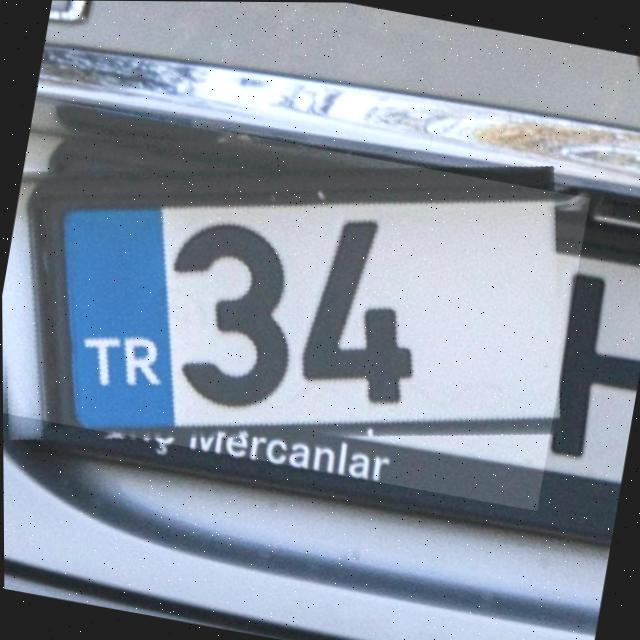LicensePlate: (1, 96, 591, 510)
